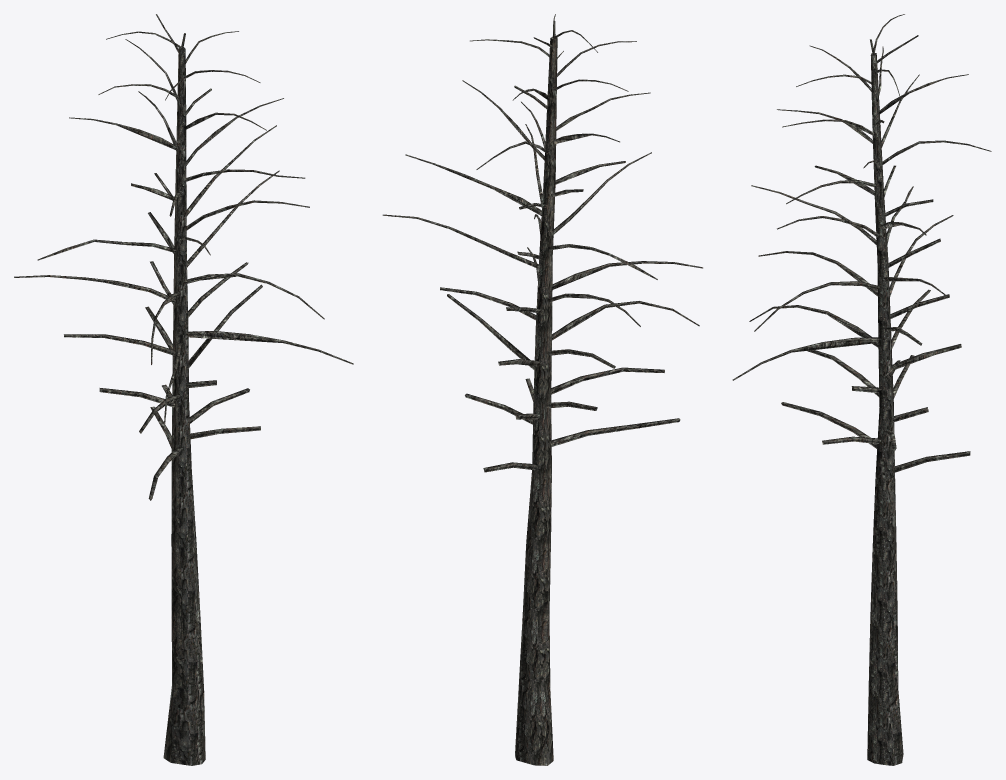
Rendered from DeadStandingPine01.DAE.
The picture shows the model from 3 angles, left to right: view 1: azimuth 30°, elevation 25°; view 2: azimuth 150°, elevation 25°; view 3: azimuth 270°, elevation 25°; orthographic projection. The views are drawn at different scales.
Visible parts, largest first — view 1: DeadStanding512, DeadStanding256; view 2: DeadStanding512, DeadStanding256; view 3: DeadStanding512, DeadStanding256.
Boxes of the visible parts, x1=… form: DeadStanding512: x1=14, y1=14, x2=353, y2=765; DeadStanding256: x1=41, y1=48, x2=282, y2=765; DeadStanding512: x1=382, y1=14, x2=702, y2=765; DeadStanding256: x1=437, y1=38, x2=677, y2=765; DeadStanding512: x1=732, y1=14, x2=991, y2=765; DeadStanding256: x1=793, y1=38, x2=958, y2=762.
Size of what is drawn, in the model's own units: 153 by 135 by 410.
